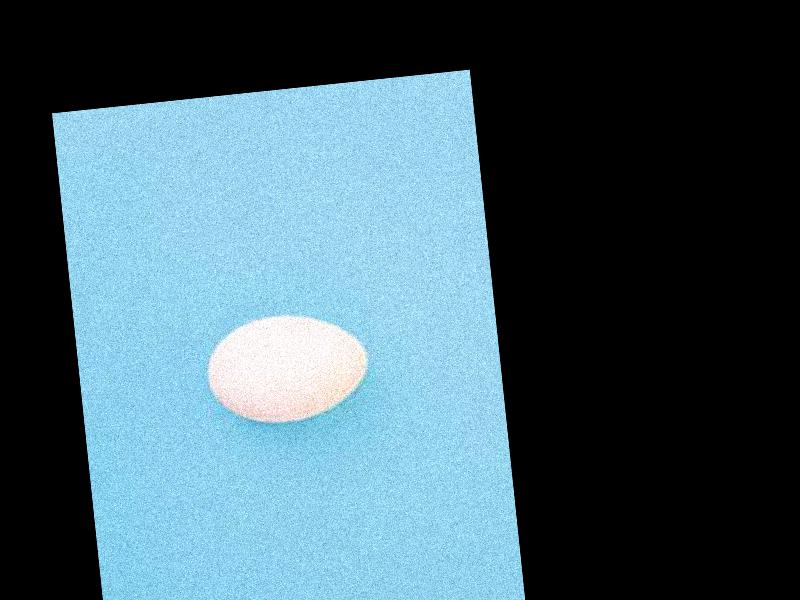Eggs: (202, 308, 376, 430)
